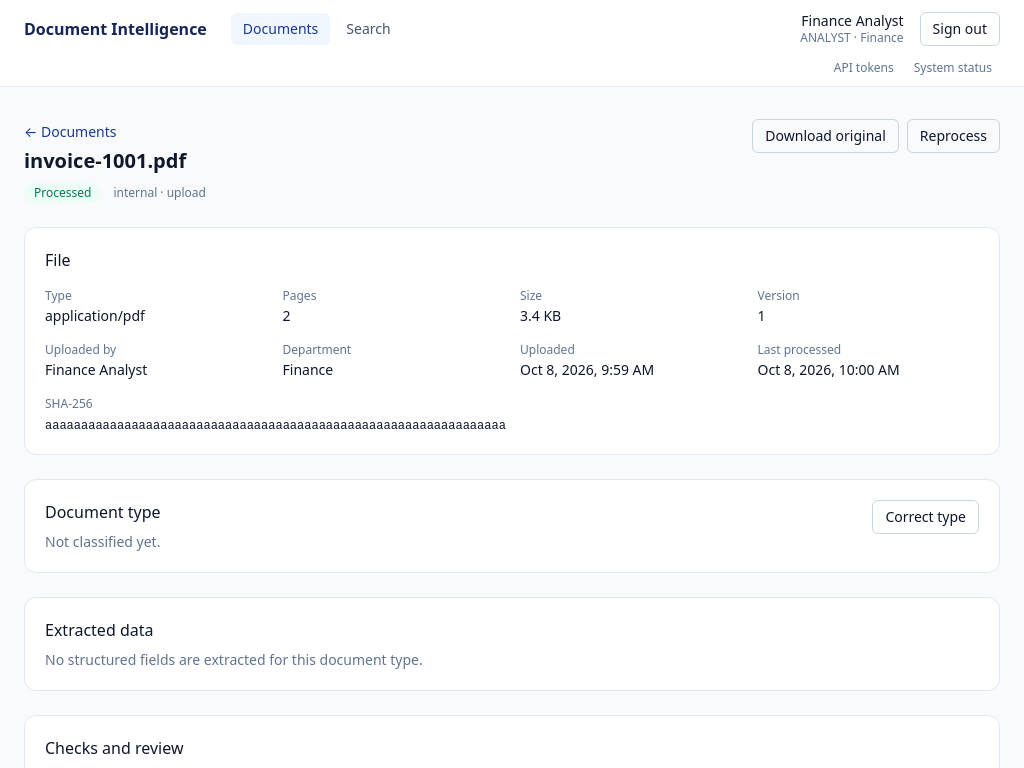
Test: document detail › requests reprocessing and reports conflicts
Click the button "Reprocess". click: (953, 136)
box: [907,119,1000,153]
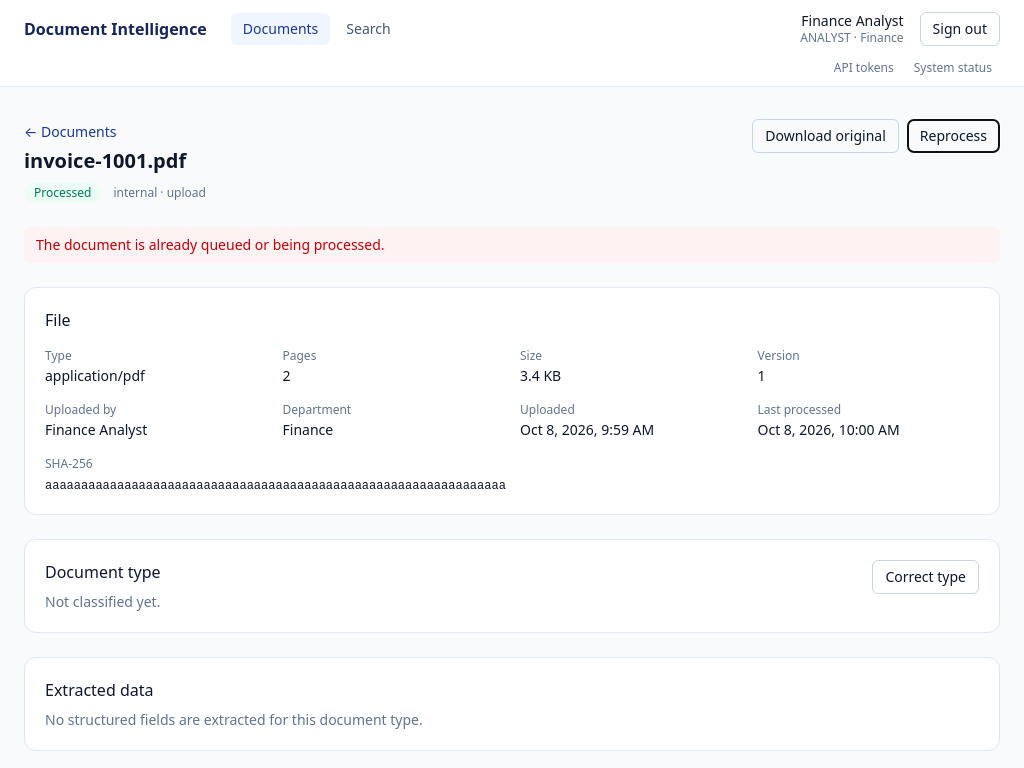
Check: the message shows "already queued", box [36,235,385,254]
